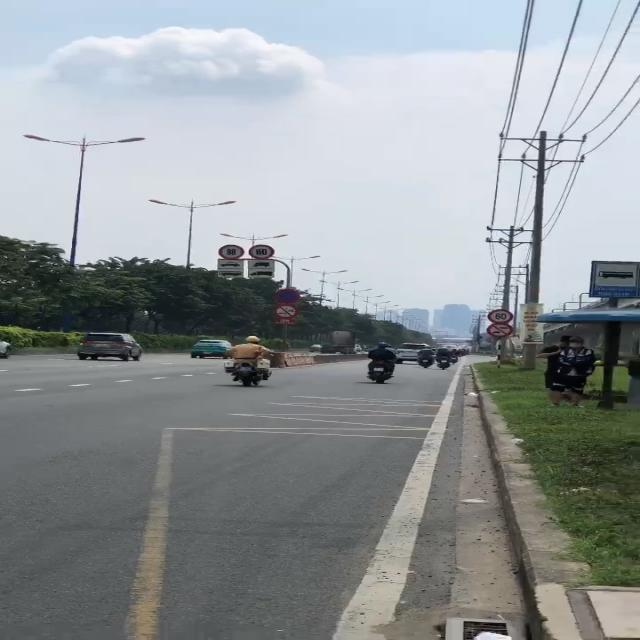Bien bao toc do toi da cho phep: (246, 243, 279, 259), (218, 242, 245, 260), (487, 308, 516, 323)
